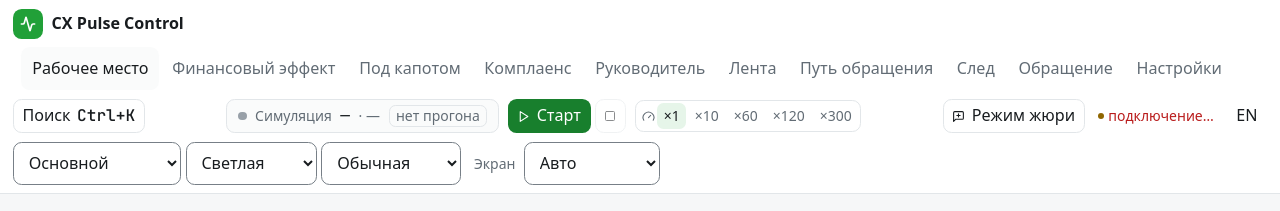
it: i18n language › шапка переключает язык на английский nav без сырого ключа
Expected: the link "Рабочее место" is shown, left=22, top=47, right=159, bottom=90
Expected: the text "Симуляция" is shown, left=255, top=106, right=332, bottom=126
Click the button with aria-label "Язык".
click(1247, 116)  # box left=1227, top=99, right=1267, bottom=133
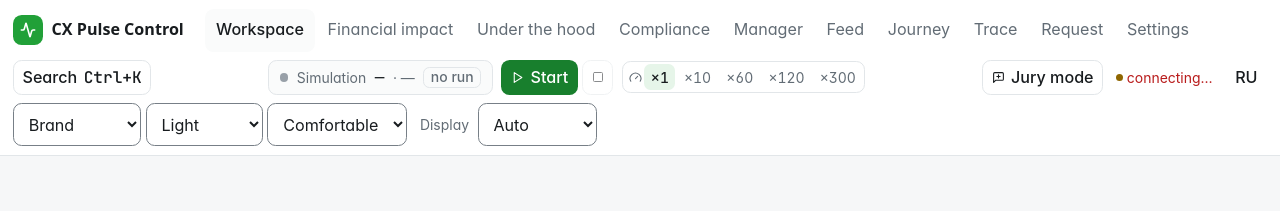
Now the link "Workspace" is shown, box left=205, top=9, right=315, bottom=52
Now the button with aria-label "Language" reads "RU", box left=1226, top=60, right=1267, bottom=95
Now the text "Simulation" is shown, box left=297, top=68, right=366, bottom=87
